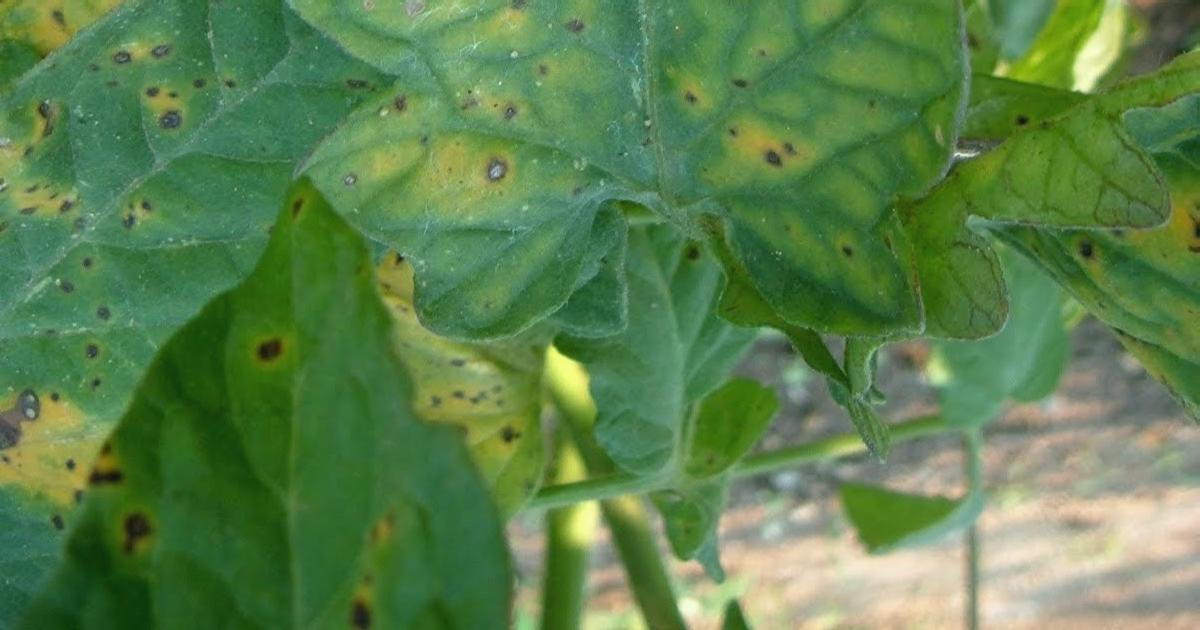Tomato Septoria leaf spot: (288, 0, 990, 341)
